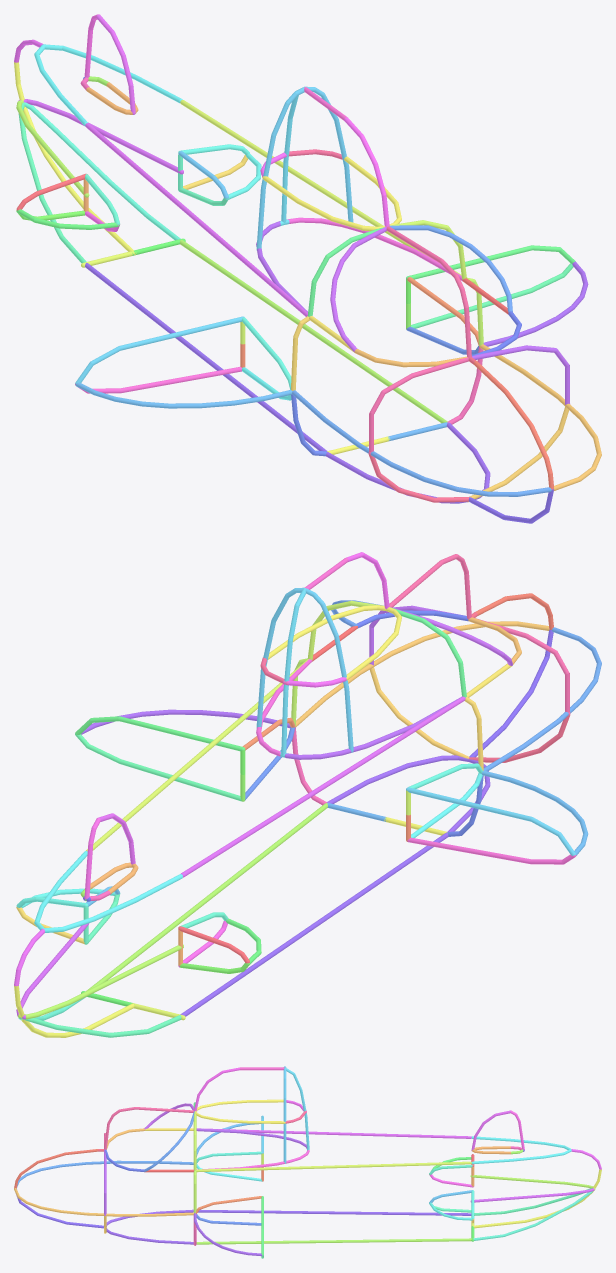
Rendered from scaffolds3d_submarine.gltf.
The picture shows the model from 3 angles, top to bottom: view 1: azimuth 30°, elevation 25°; view 2: azimuth 150°, elevation 25°; view 3: azimuth 270°, elevation 25°; orthographic projection. The views are drawn at different scales.
Bounding box in the file's own units: 0.4604 × 0.2586 × 0.8565.
